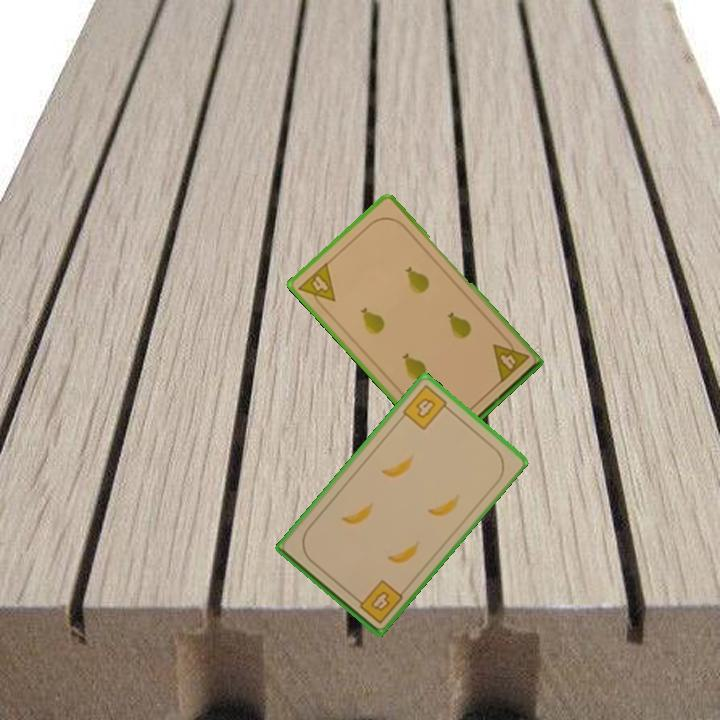4b: (399, 381, 454, 433), (350, 576, 406, 626)
4p: (295, 259, 338, 313), (489, 333, 532, 386)
